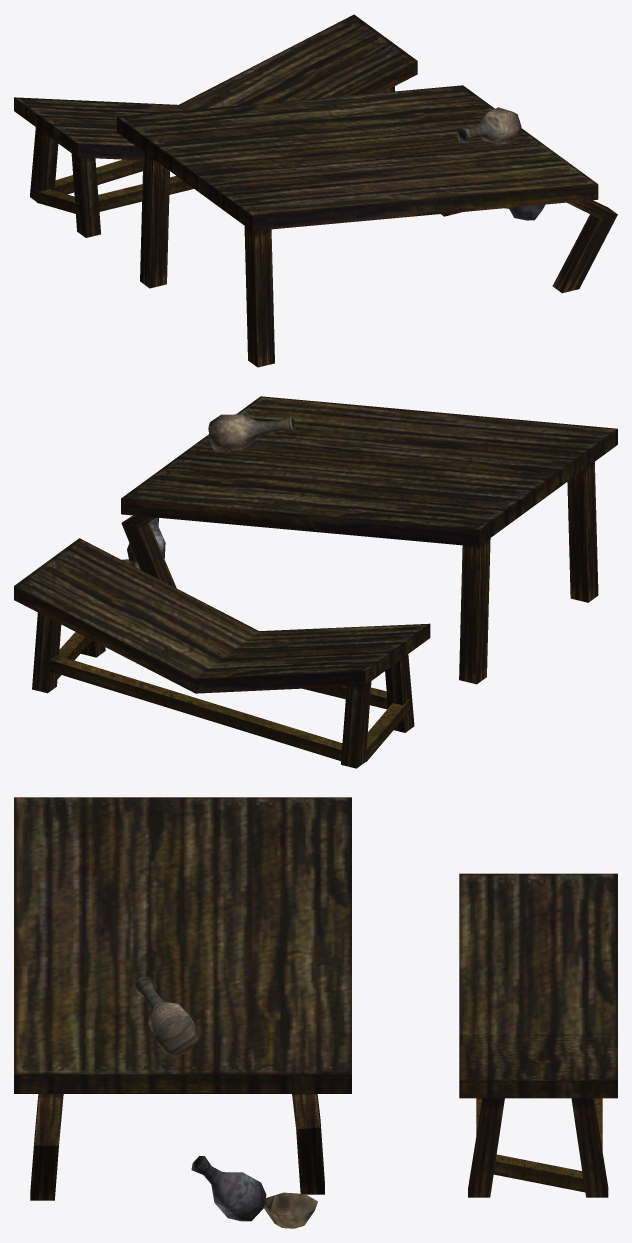
3 renders of one model, top to bottom at view 1: azimuth 30°, elevation 25°; view 2: azimuth 150°, elevation 25°; view 3: azimuth 270°, elevation 25°, orthographic. The views are drawn at different scales.
Parts seen in each view (by area): view 1: Sphere01; view 2: Sphere01; view 3: Sphere01.
Part boxes in pixels (x1,y1,x2,y2): Sphere01: (14,14,617,367); Sphere01: (14,396,617,768); Sphere01: (14,797,617,1228).
Bounding box in the file's own units: 2.3 × 0.9087 × 2.48.
